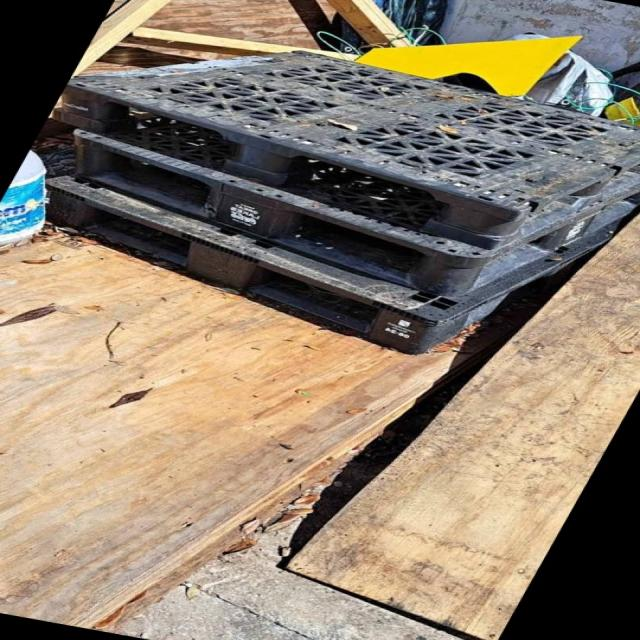non-igps: (41, 45, 640, 255), (56, 110, 640, 309), (32, 169, 640, 359)
